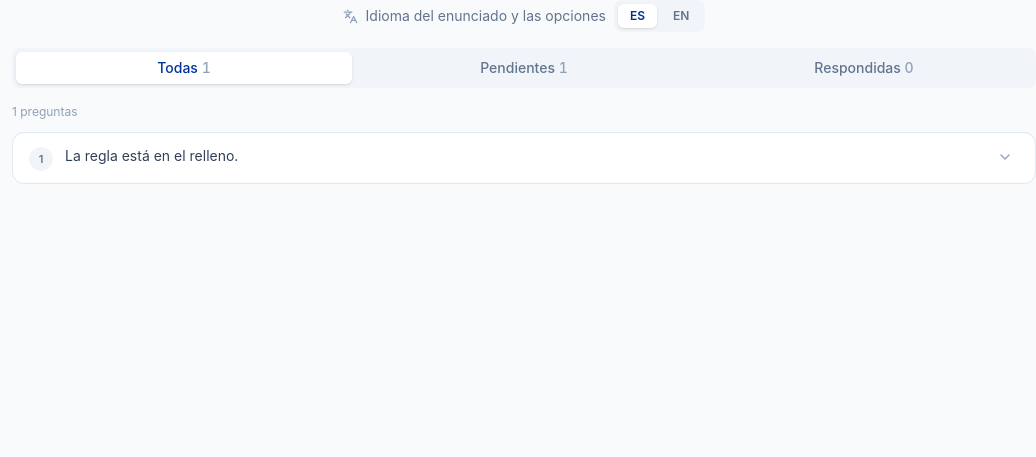
cabecera › en razonamiento abstracto la cabecera lleva la prosa y la figura se queda en la tarjeta
Expected: the text "La regla está en el relleno." is shown, [65,147,238,164]
Click the button named "Abrir la pregunta".
click(1005, 157)  # box [991,143,1019,171]
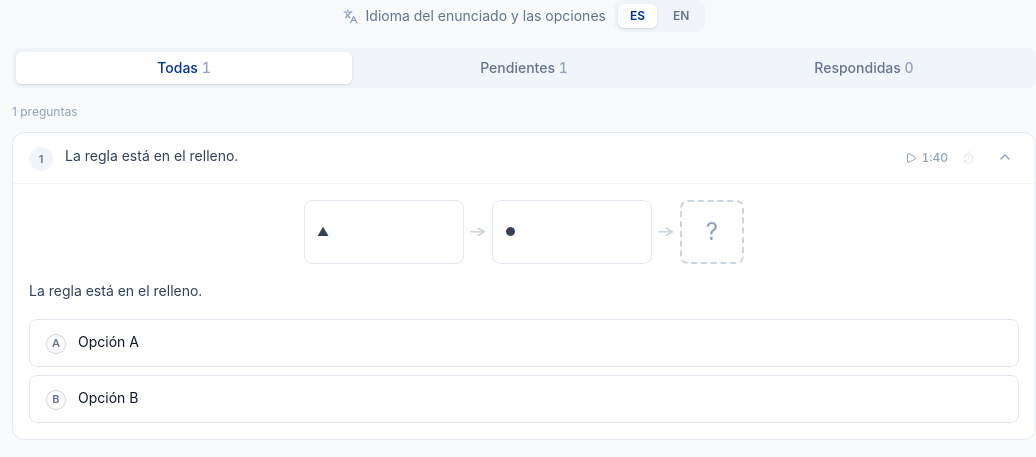
Expected: the text "▲" is shown, [317,224,329,239]
